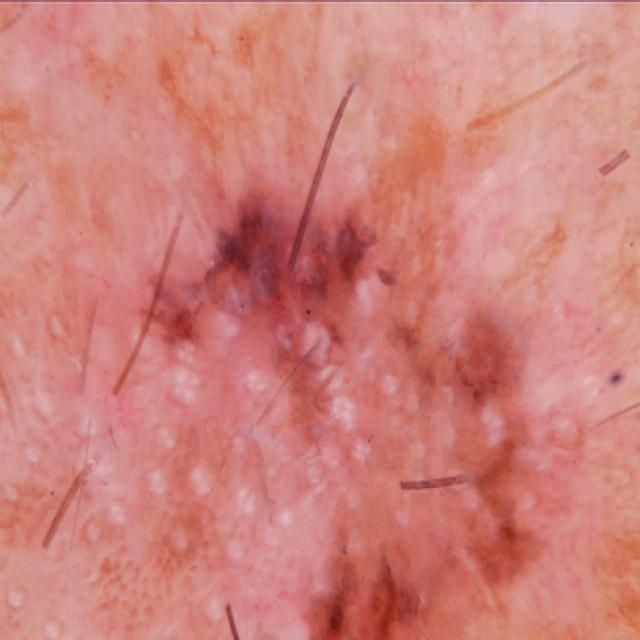Keratosis: (36, 180, 597, 640)
